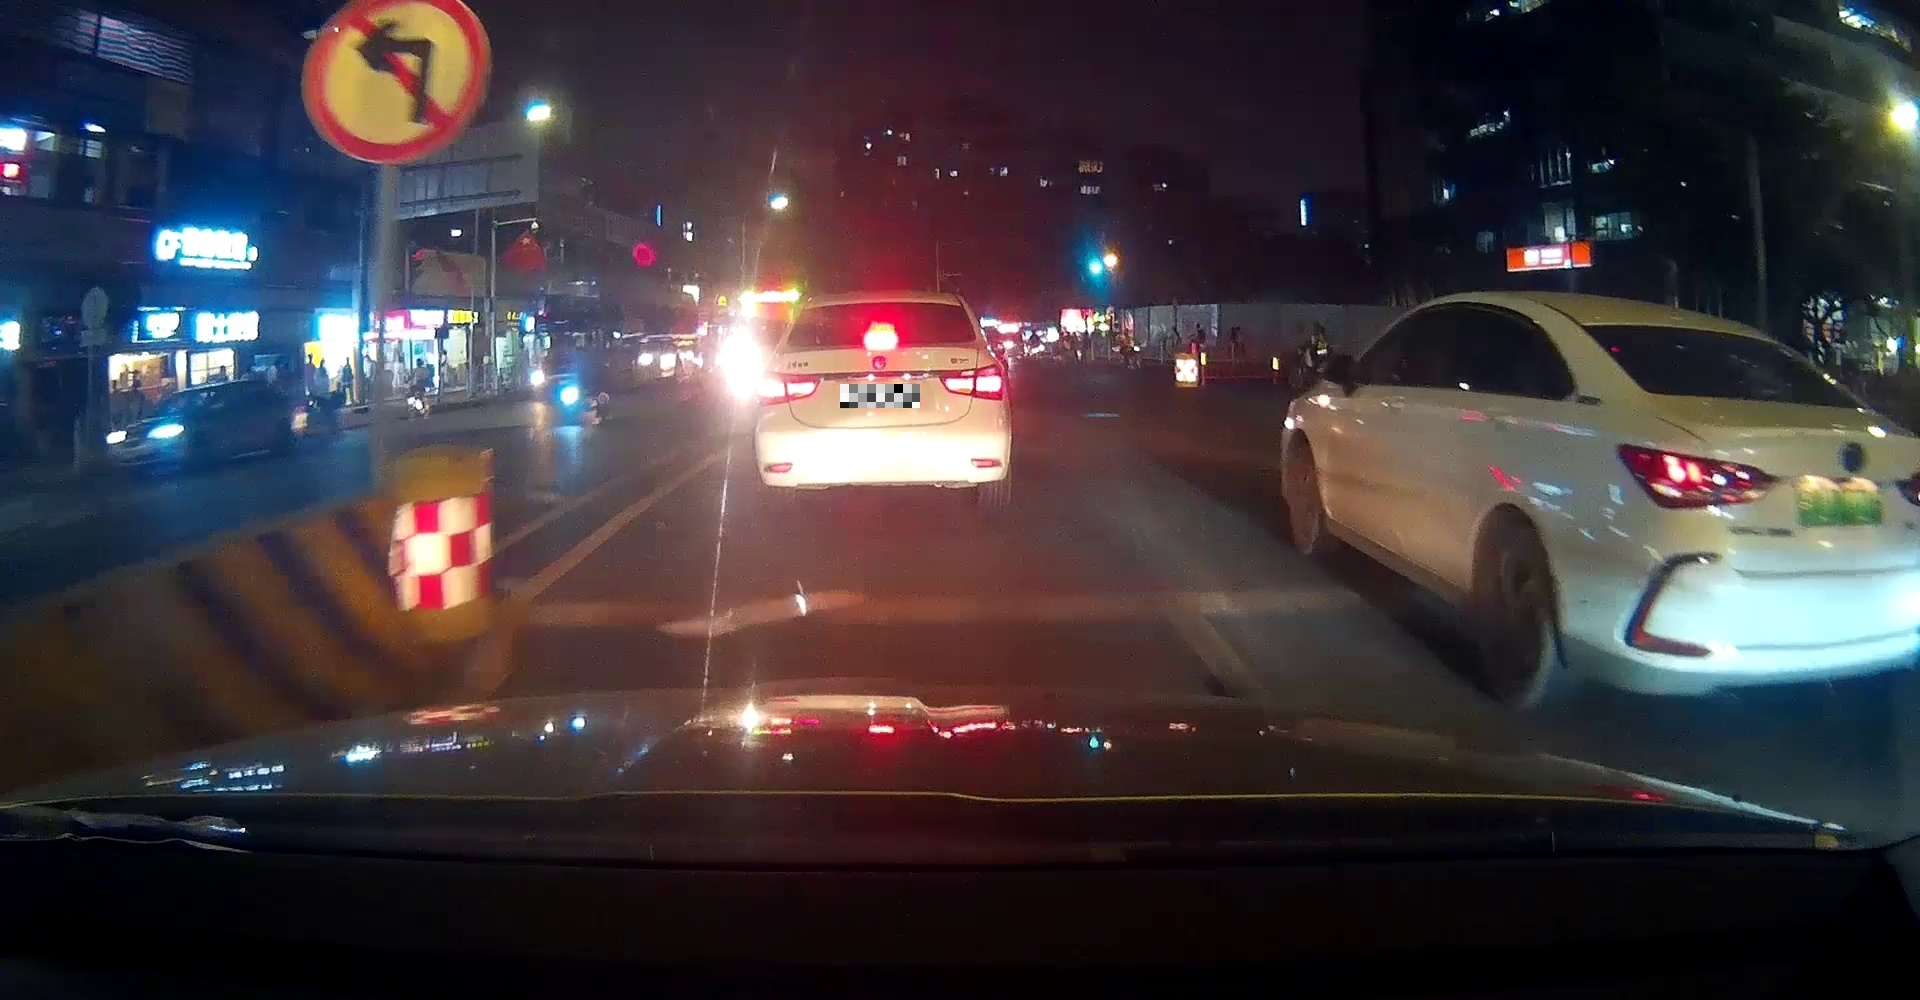L_light: (1619, 442, 1779, 511), (756, 371, 820, 404)
R_light: (938, 362, 1001, 401), (1896, 473, 1919, 504)
T_light: (1680, 329, 1723, 341), (863, 334, 897, 346)
night-brake: (756, 292, 1012, 508)
night-no: (1567, 312, 1920, 725)
plate_1: (841, 385, 919, 409)
